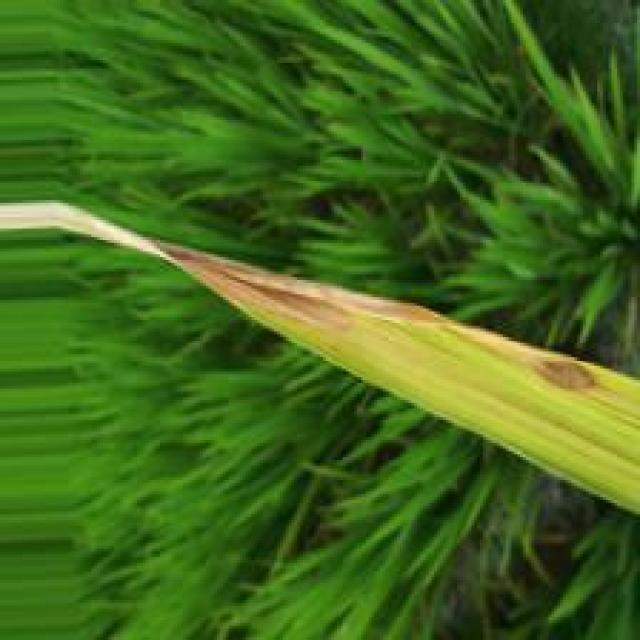Brown_Spot: (147, 240, 453, 331), (523, 352, 612, 401)
